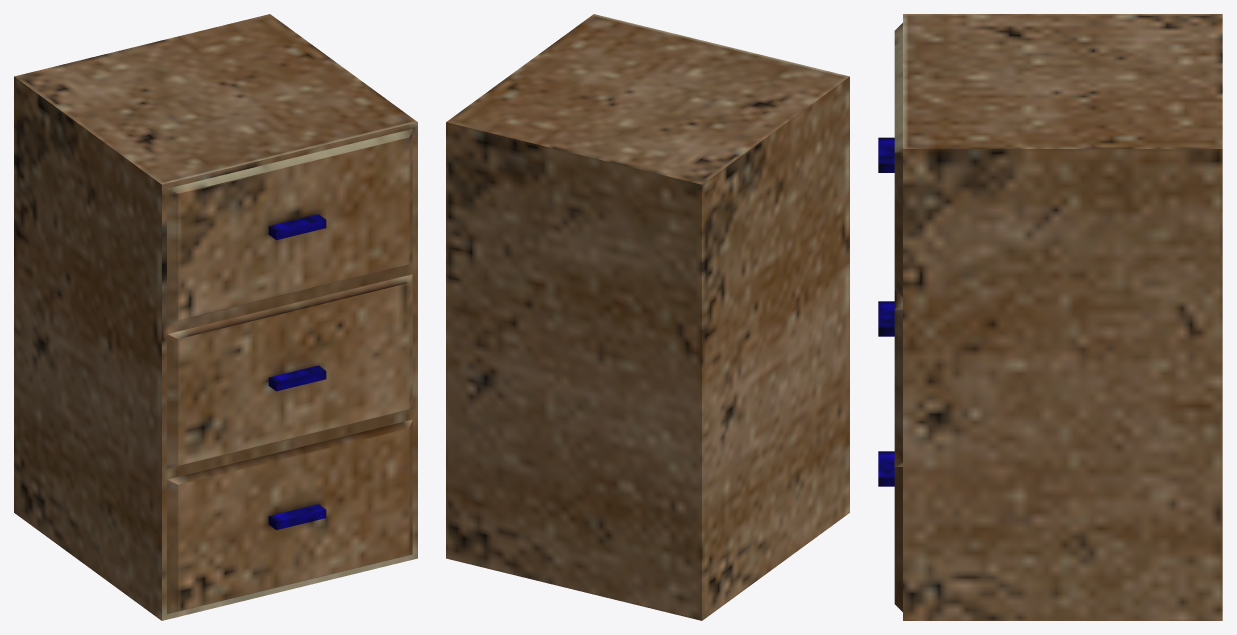
The model's file is file-cabinet.glb.
3 renders of one model, left to right at view 1: azimuth 30°, elevation 25°; view 2: azimuth 150°, elevation 25°; view 3: azimuth 270°, elevation 25°, orthographic. The views are drawn at different scales.
Parts seen in each view (by area): view 1: file_cabinet; view 2: file_cabinet; view 3: file_cabinet.
Part boxes in pixels (x1,y1,x2,y2): file_cabinet: [14, 14, 417, 620]; file_cabinet: [446, 14, 849, 620]; file_cabinet: [878, 14, 1222, 620].
Bounding box in the file's own units: 0.6791 × 1.11 × 0.7316.
1 material, 1 textured.
